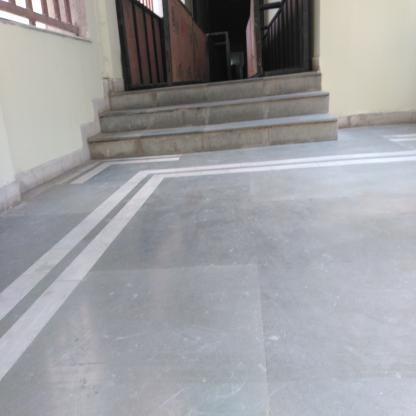stairs: (109, 88, 322, 157)
